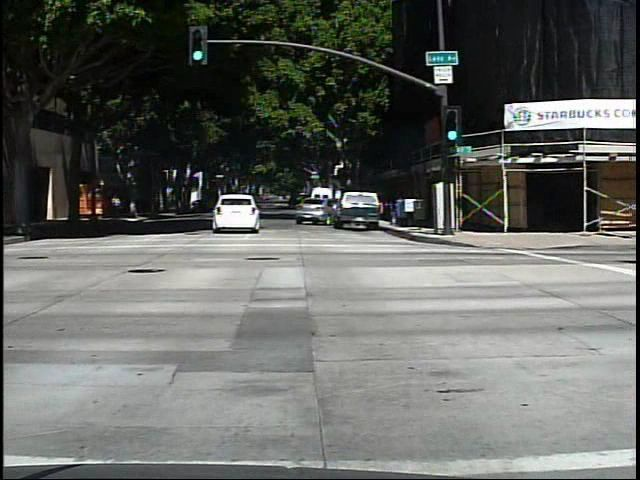person: (107, 190, 124, 221)
